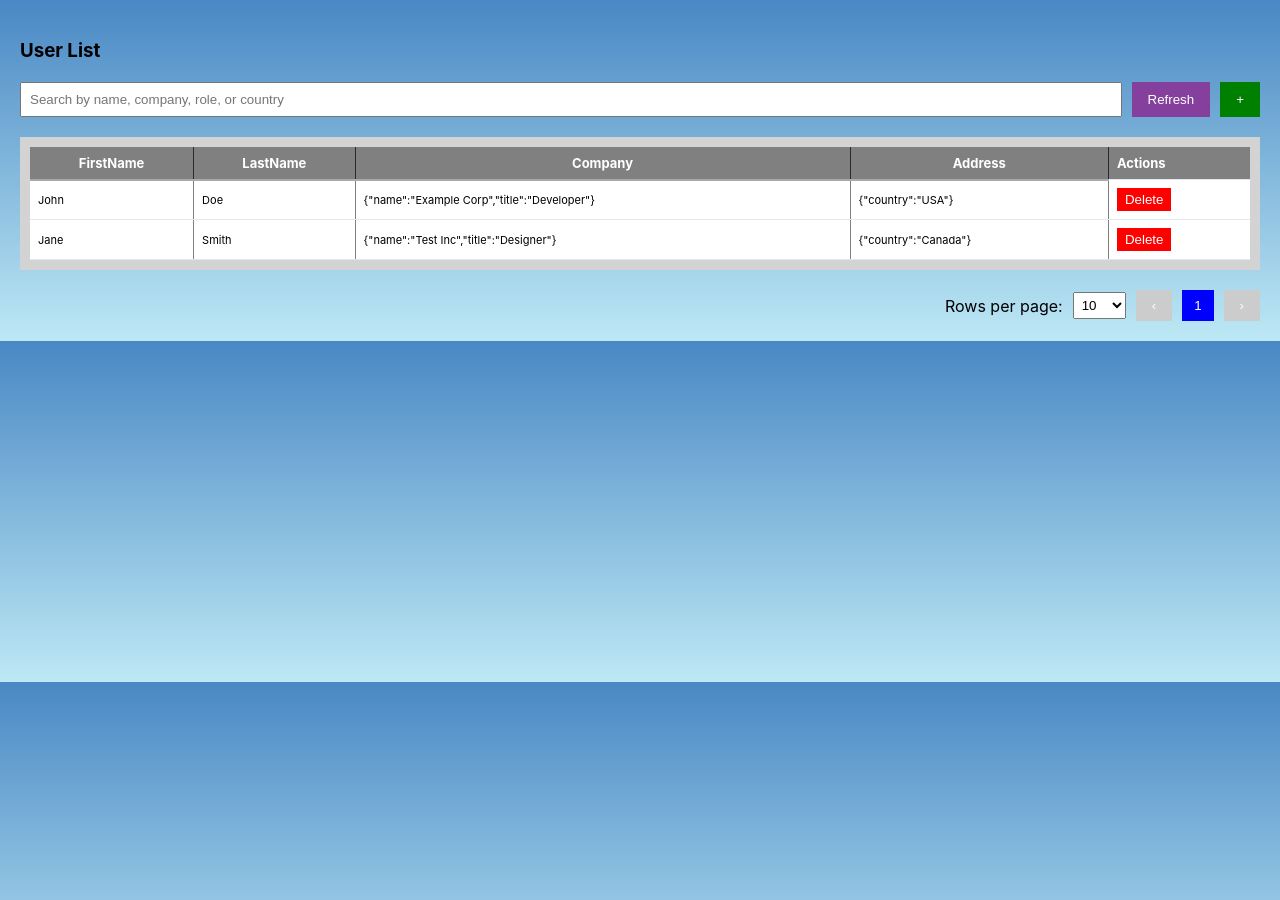
Test: opens add user modal when + button is clicked
The image size is (1280, 900).
Expected: the text "John" is shown, [30,180,194,220]
Click the button "+".
click(1240, 99)  # box [1220,82,1260,117]
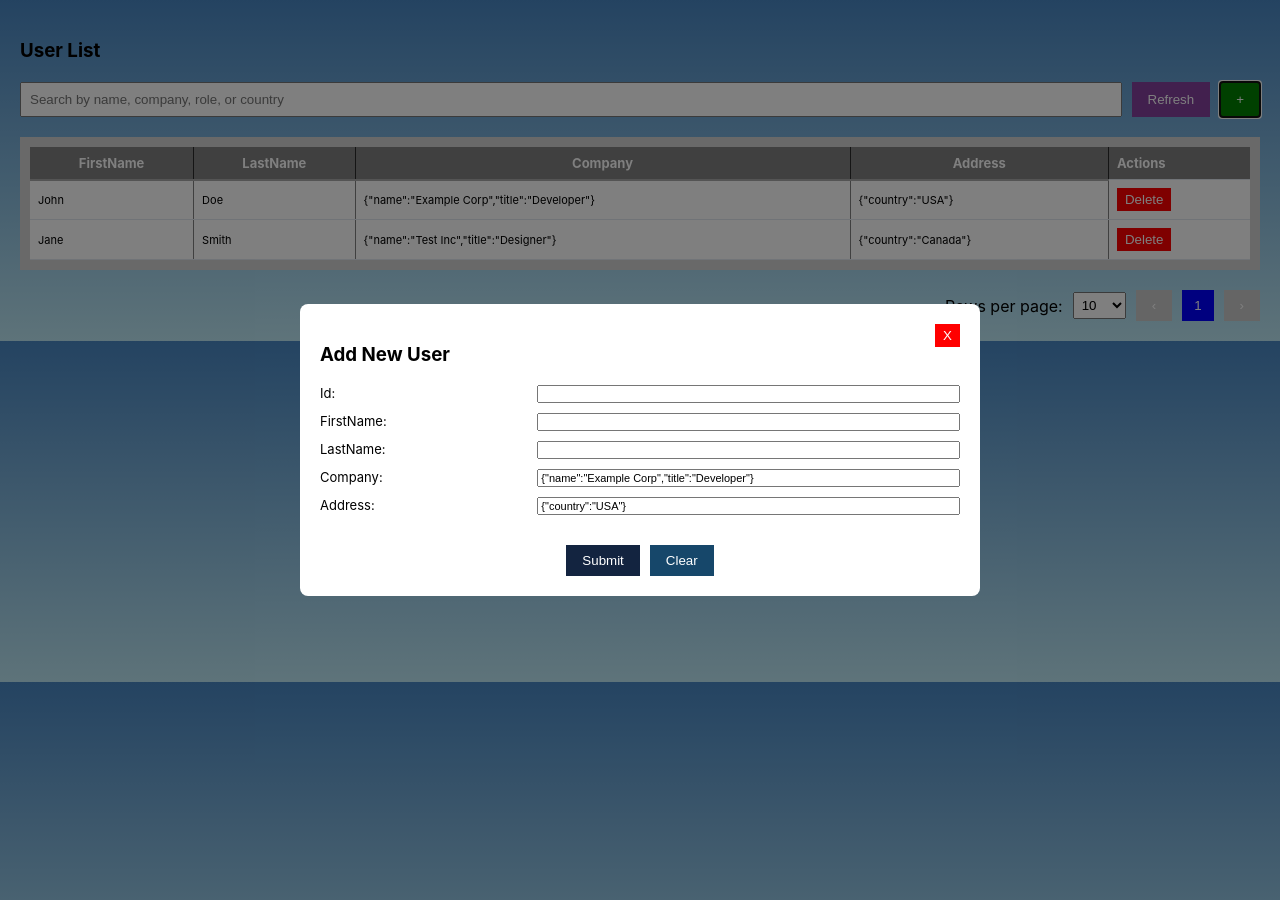
Expected: the heading "Add New User" is shown, [320,343,450,366]
